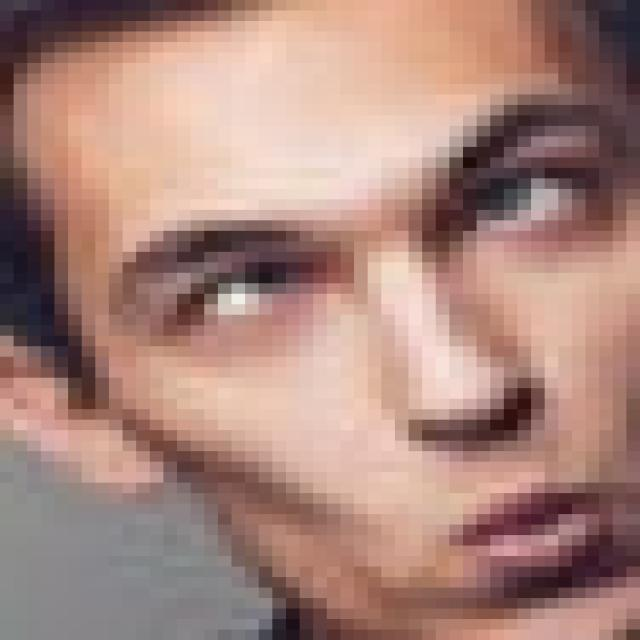Anxiety: (15, 0, 626, 630)
